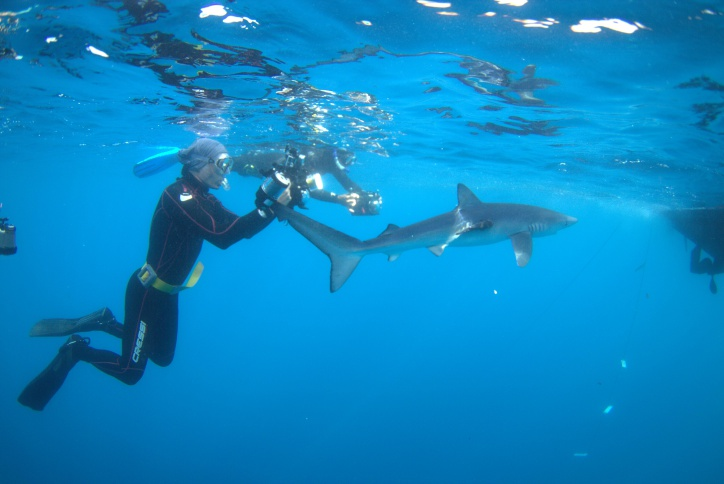Azul: (266, 181, 591, 300)
